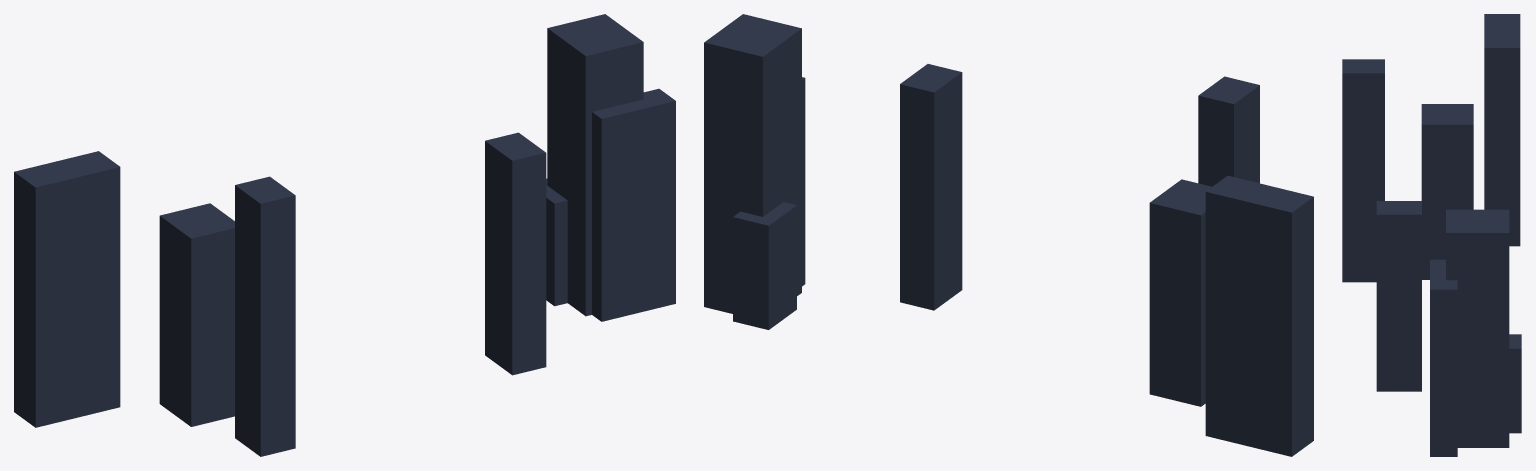
The model's file is prop_backdrop_2.glb.
3 renders of one model, left to right at view 1: azimuth 30°, elevation 25°; view 2: azimuth 150°, elevation 25°; view 3: azimuth 270°, elevation 25°, orthographic. The views are drawn at different scales.
Parts seen in each view (by area): view 1: prop_backdrop_2; view 2: prop_backdrop_2; view 3: prop_backdrop_2.
Part boxes in pixels (<box>): prop_backdrop_2: <box>14,14,675,456</box>; prop_backdrop_2: <box>704,14,1313,456</box>; prop_backdrop_2: <box>1342,14,1521,456</box>.
Bounding box in the file's own units: 14.48 × 5.93 × 4.48.
